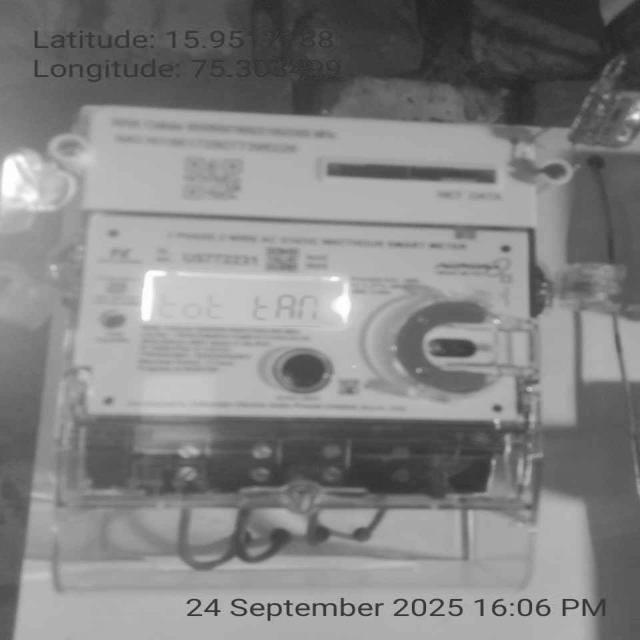meter: (76, 106, 557, 424)
